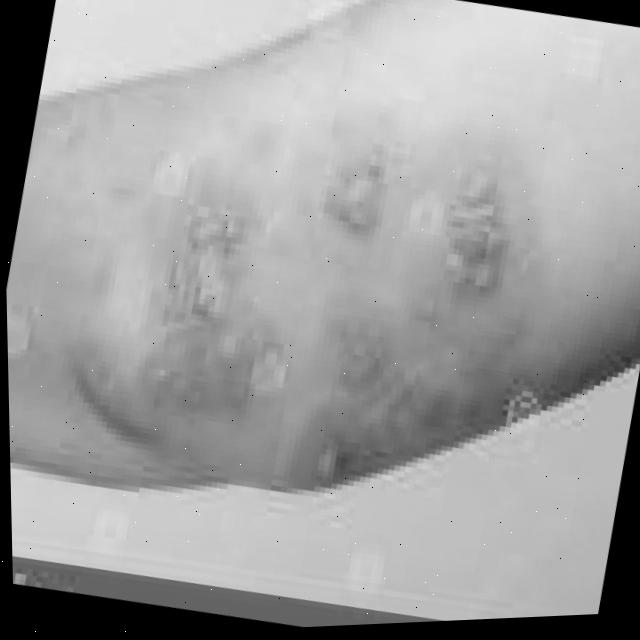Shingles: (126, 113, 516, 519)
